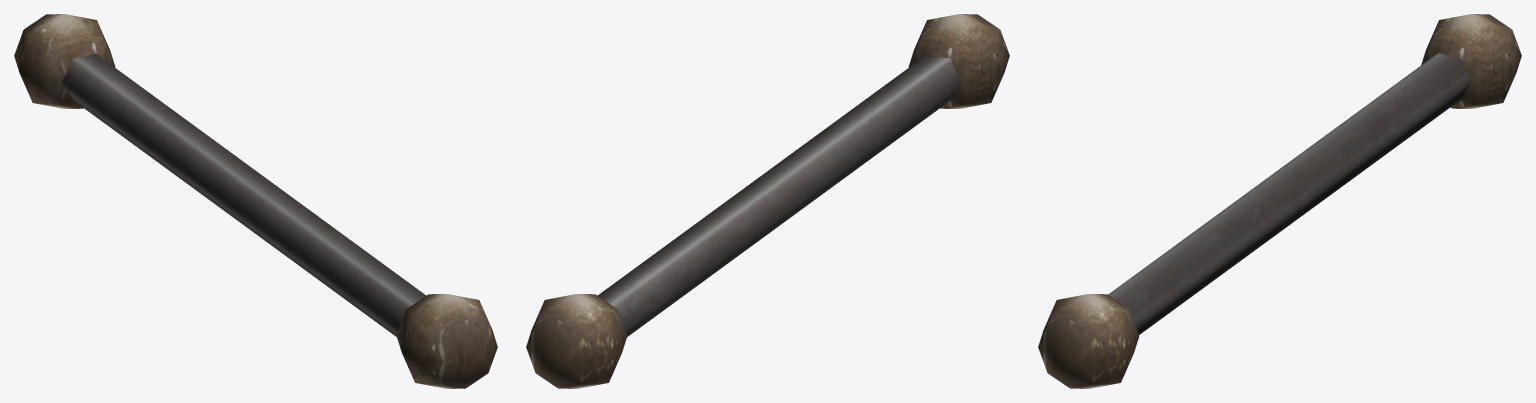
The model's file is railings_factory_1m_support.DAE.
3 views of the same model, side by side, from view 1: azimuth 30°, elevation 25°; view 2: azimuth 150°, elevation 25°; view 3: azimuth 330°, elevation 25° (orthographic).
Parts seen in each view (by area): view 1: Object106; view 2: Object106; view 3: Object106.
Boxes of the visible parts, x1=… form: Object106: x1=14, y1=14, x2=497, y2=388; Object106: x1=526, y1=14, x2=1009, y2=388; Object106: x1=1038, y1=14, x2=1521, y2=388.
Bounding box in the file's own units: 0.12 × 0.12 × 0.9944.
